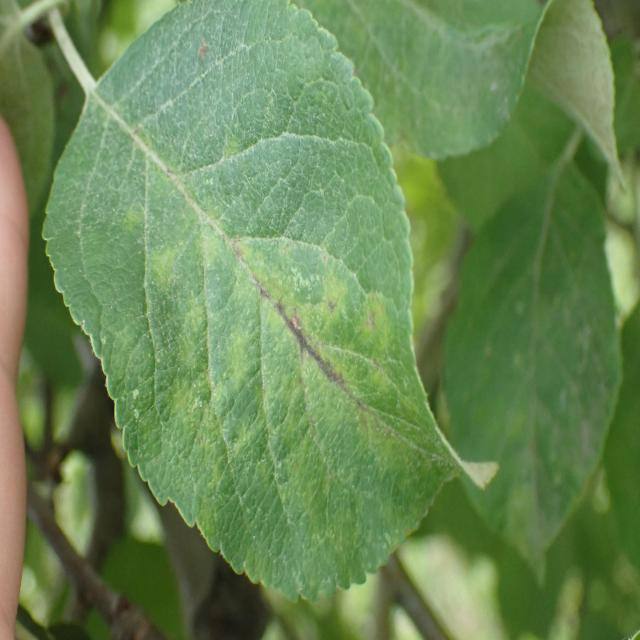scab: (110, 85, 421, 559)
